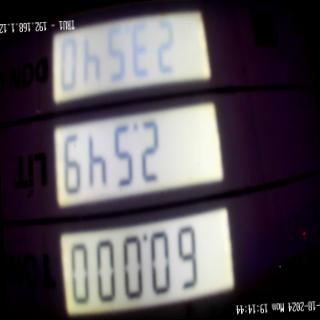screen: (40, 0, 246, 320)
